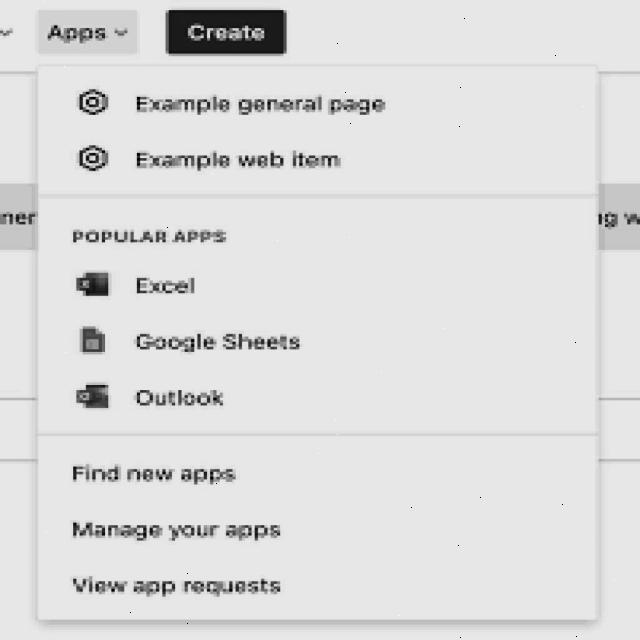dropdownMenu: (39, 66, 600, 625), (39, 11, 138, 59)
label: (166, 11, 284, 55)
menuItem: (70, 80, 392, 126), (70, 134, 362, 184), (75, 317, 314, 360), (65, 566, 298, 607), (61, 448, 261, 493), (67, 512, 295, 550), (67, 372, 251, 419), (69, 264, 209, 305)
